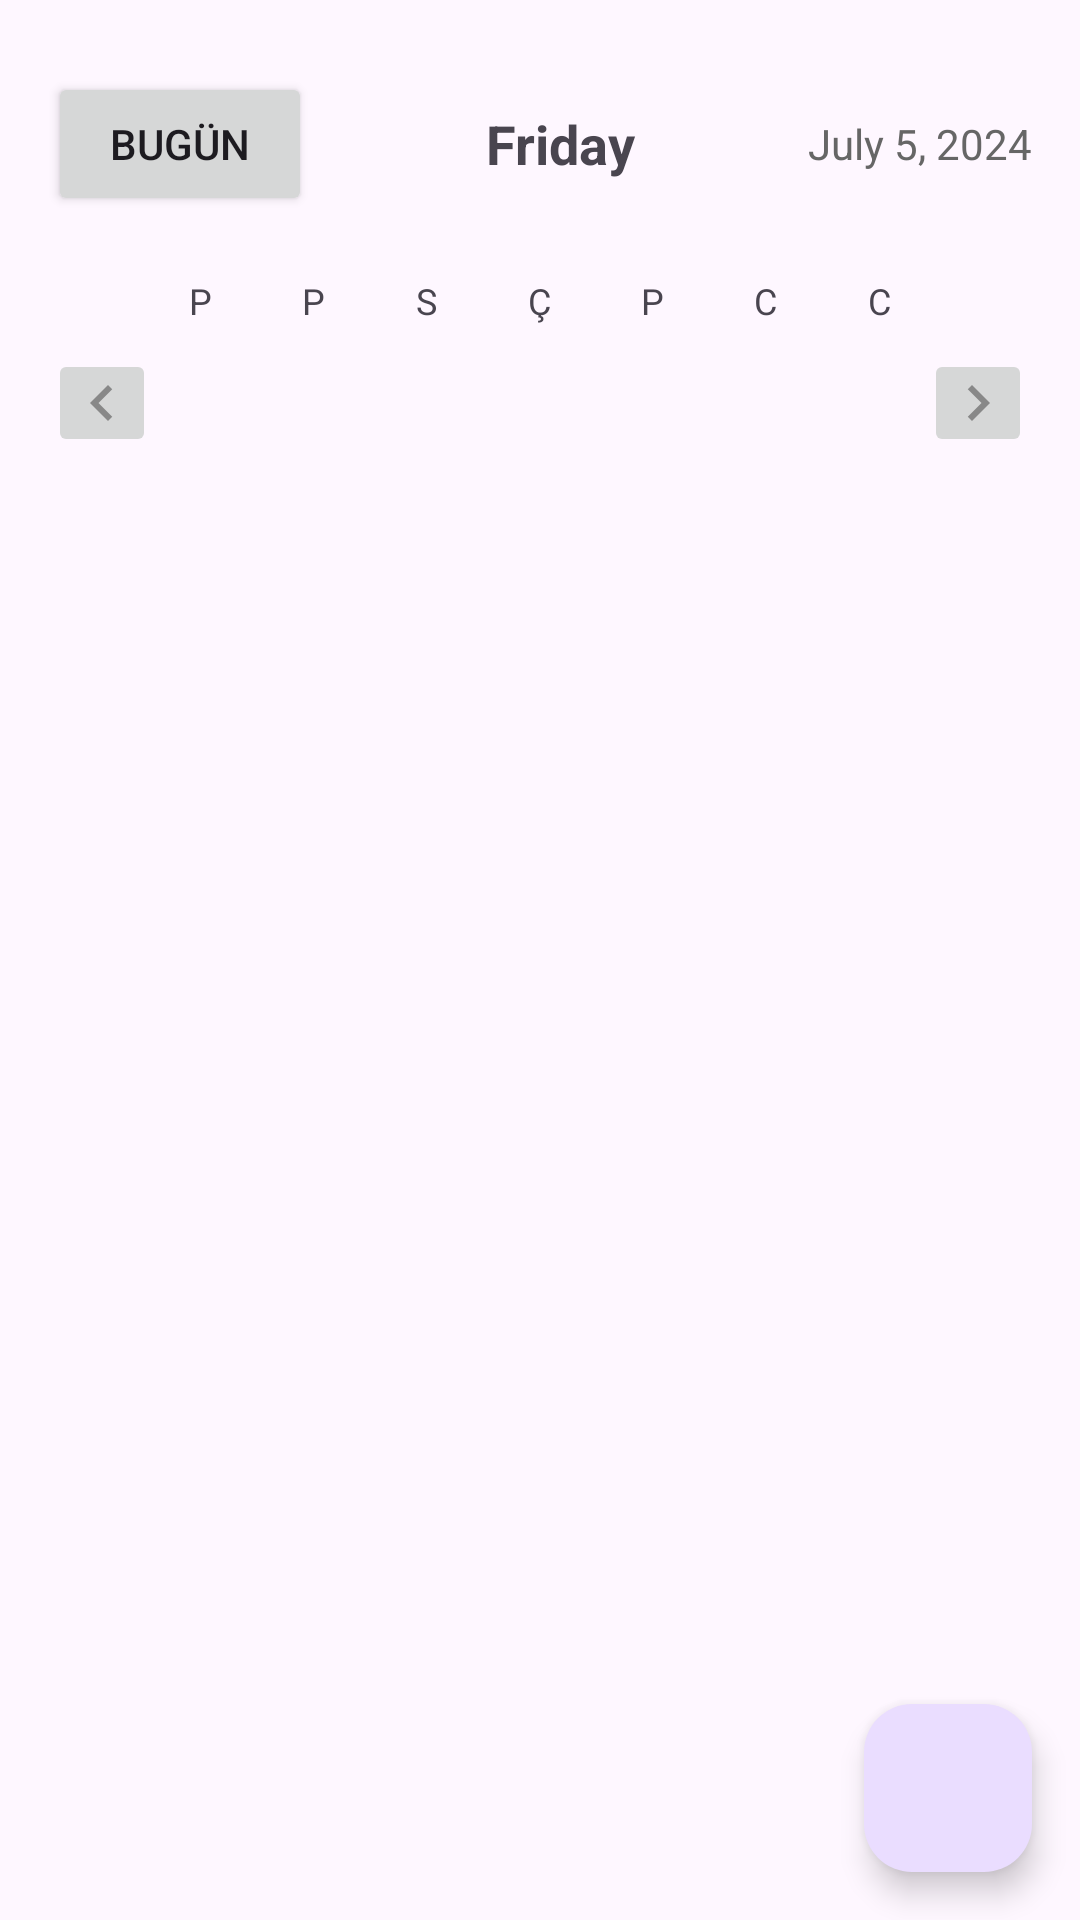

Named icons in this screenshot (1080×1920) and their centers, [x,y]:
arrow left: [102,403]
arrow right: [978,403]
